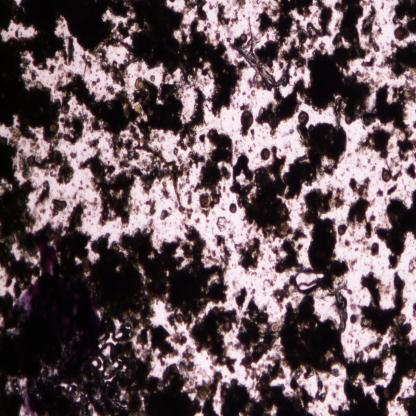Background material: (277, 294, 416, 415), (0, 237, 82, 410), (258, 1, 366, 131), (233, 117, 349, 235), (128, 0, 243, 115), (91, 229, 228, 320), (82, 322, 203, 414), (0, 31, 60, 144), (297, 182, 351, 296), (0, 1, 129, 48), (57, 70, 140, 130), (132, 82, 206, 146), (76, 155, 138, 225), (223, 370, 316, 416), (371, 184, 416, 269), (358, 271, 412, 338), (0, 137, 36, 236), (236, 298, 282, 372), (190, 305, 238, 372), (196, 126, 233, 195), (364, 85, 416, 129), (294, 0, 332, 52), (19, 146, 78, 179), (270, 227, 308, 277), (347, 175, 376, 235), (0, 251, 41, 291), (92, 48, 129, 88), (380, 40, 416, 80), (354, 127, 393, 159), (61, 200, 90, 243), (107, 132, 140, 164), (360, 3, 380, 54), (203, 368, 223, 416), (233, 242, 263, 274), (390, 0, 416, 36), (58, 116, 88, 147), (274, 274, 298, 311), (214, 3, 242, 29), (395, 127, 416, 161), (180, 150, 205, 178), (54, 32, 75, 65), (284, 44, 307, 71), (182, 1, 208, 22), (34, 179, 50, 207), (378, 167, 404, 184), (85, 135, 105, 157), (232, 285, 249, 310), (332, 185, 348, 208), (52, 196, 67, 218), (141, 198, 157, 217), (359, 240, 379, 255), (81, 52, 92, 74), (360, 54, 375, 70), (216, 216, 230, 231), (386, 182, 399, 198), (406, 162, 416, 182), (158, 208, 176, 219), (262, 278, 276, 292), (351, 157, 364, 172), (252, 130, 258, 154), (184, 191, 193, 206), (239, 126, 250, 137), (368, 158, 377, 170), (48, 63, 56, 74), (376, 188, 384, 199), (250, 89, 256, 97)
Cellulose filter fibre: (238, 43, 294, 88)
Cotton: (212, 193, 221, 205)
Diatom: (332, 285, 348, 336), (134, 76, 147, 94), (297, 110, 310, 127), (198, 193, 211, 210), (240, 110, 253, 127), (393, 26, 407, 40), (81, 258, 92, 274), (53, 149, 62, 165), (373, 364, 382, 380), (260, 147, 270, 161), (49, 121, 60, 133), (223, 319, 232, 332), (402, 400, 412, 411), (337, 225, 346, 236), (61, 104, 70, 114), (200, 387, 207, 399), (240, 33, 248, 43), (271, 321, 279, 331), (229, 204, 236, 214), (350, 314, 357, 322)
Natural material: (134, 140, 182, 207)
